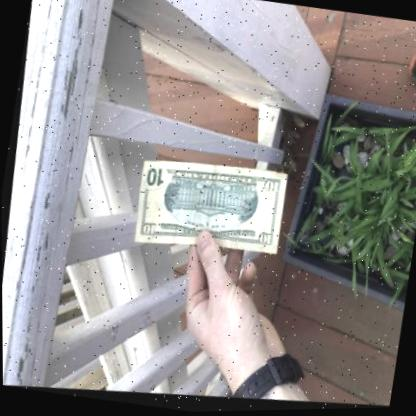dollar_back: (127, 149, 290, 267)
